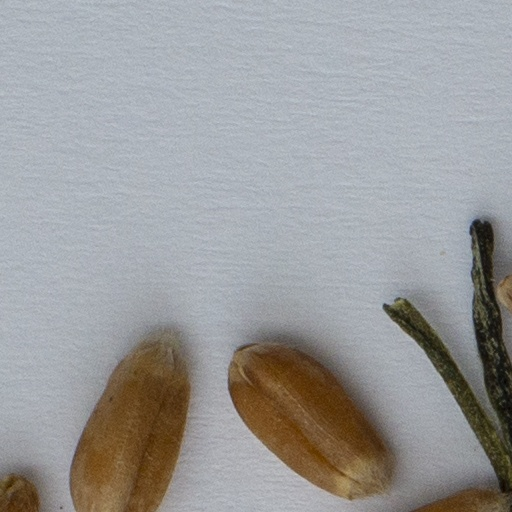Peel-poly: (392, 218, 511, 511)
